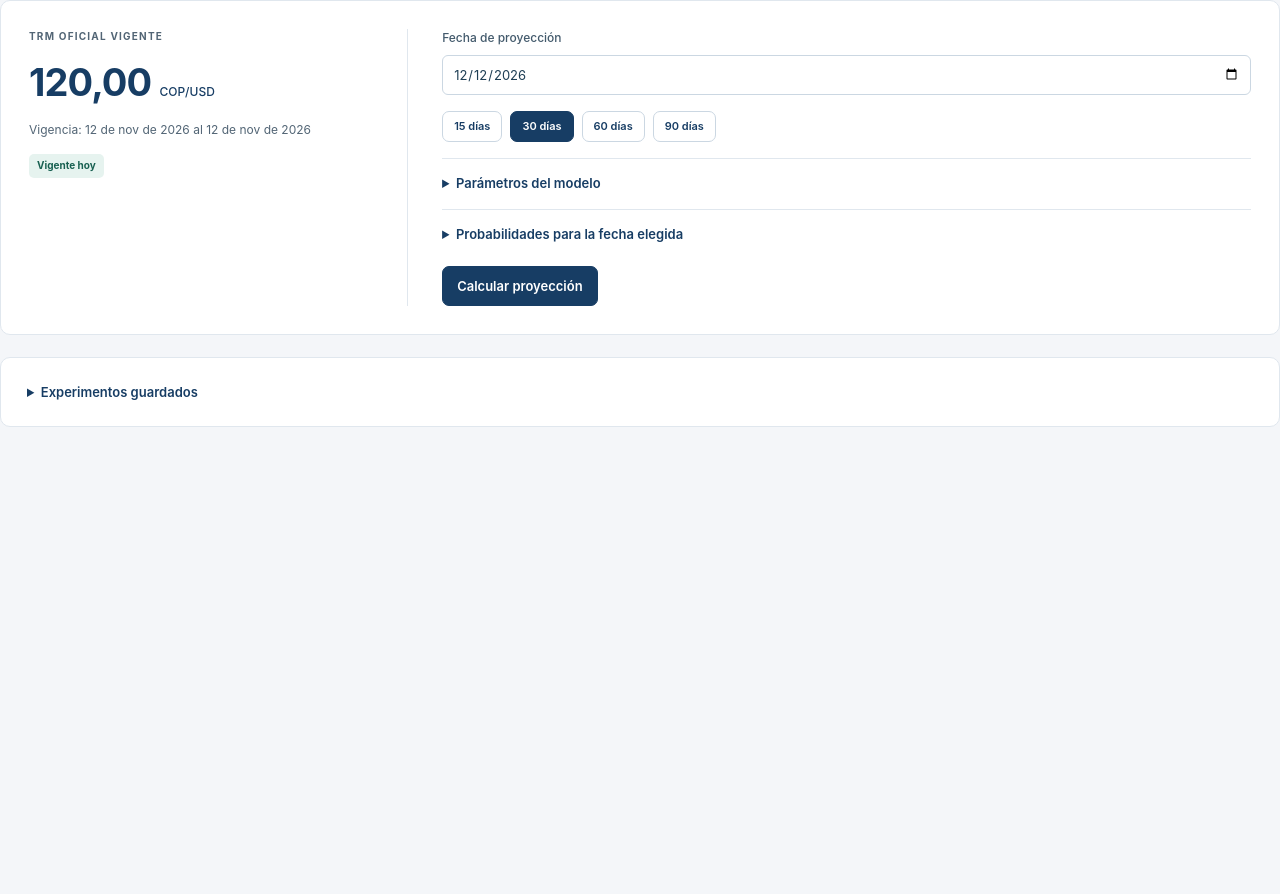
it: envía la fecha, destaca la mediana y muestra la misma estimación en la tabla
Type "2026-11-18" into the date field labelled "Fecha de proyección" at x=847, y=75, box [442,55,1251,95]
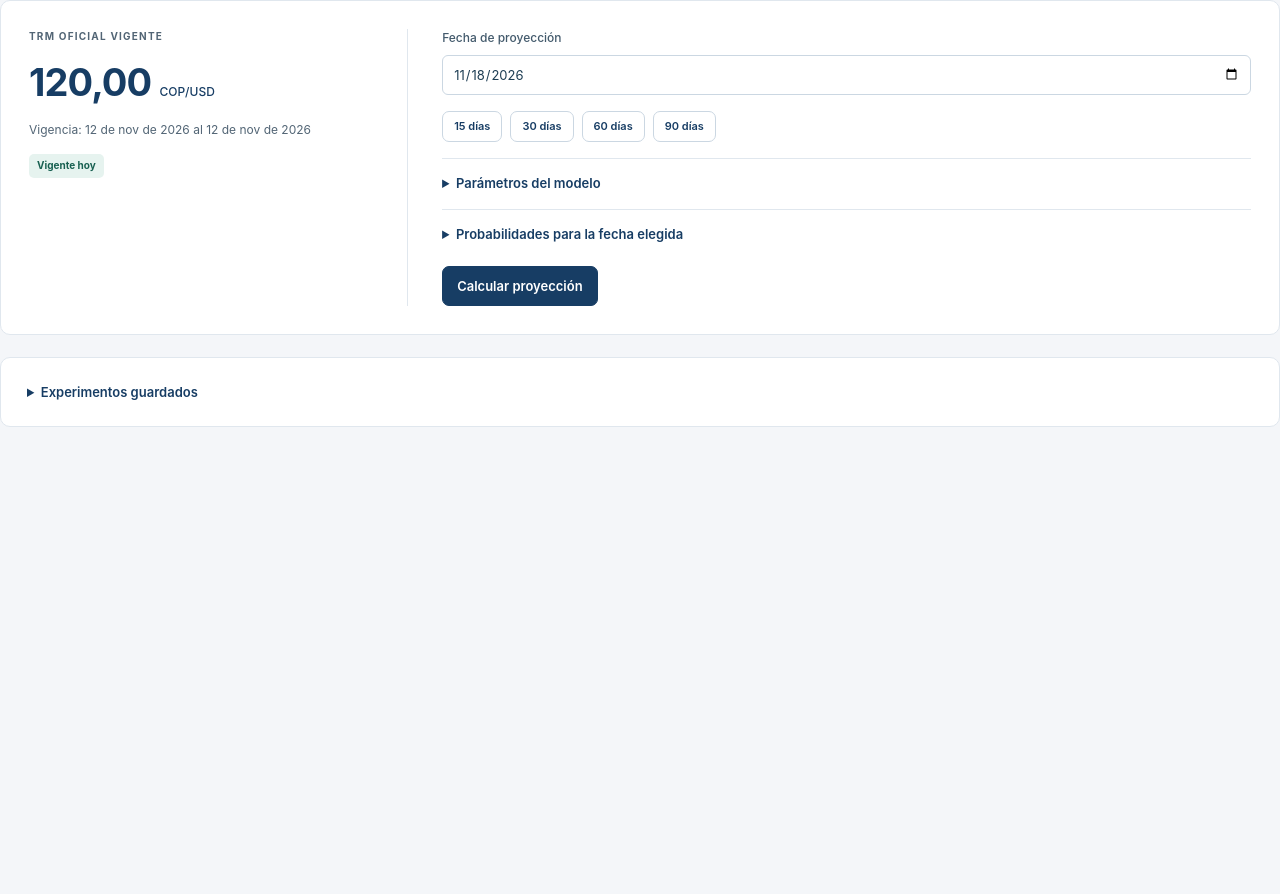
Click the button "Calcular proyección" at x=520, y=286, box [442,266,598,306]
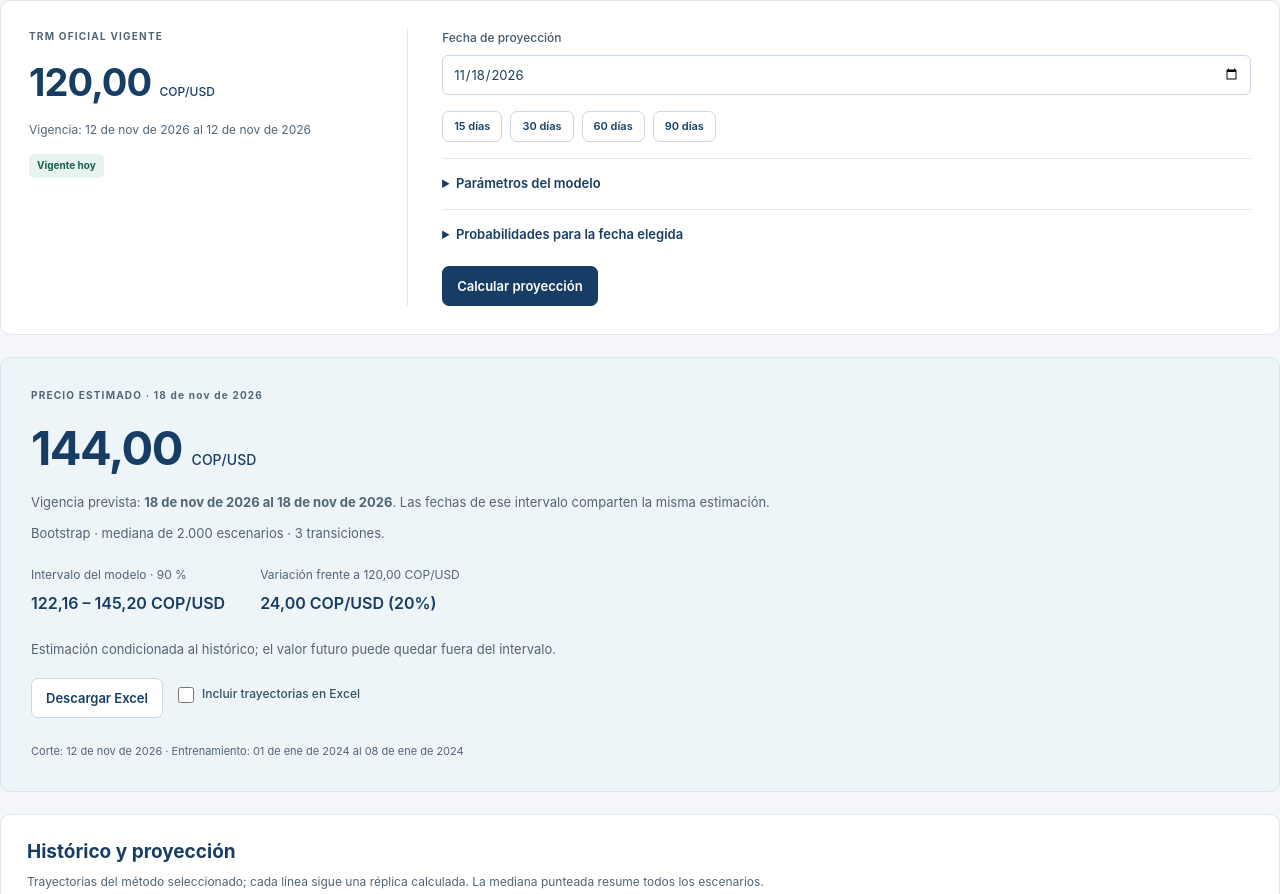
Result: the button "Descargar Excel" is enabled at [31,678,163,718]
